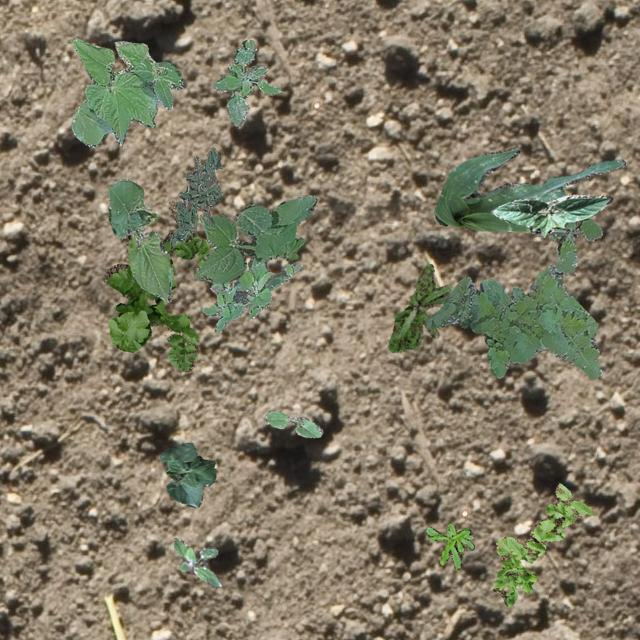crop: (432, 146, 624, 235), (68, 36, 182, 146), (108, 178, 172, 300), (489, 194, 612, 236), (158, 442, 214, 506), (264, 411, 322, 436)
weed: (424, 250, 602, 378), (102, 200, 208, 370), (492, 482, 592, 606), (194, 194, 316, 282), (202, 254, 302, 332), (212, 38, 280, 126), (386, 262, 450, 352), (170, 146, 222, 245), (172, 538, 220, 586), (550, 218, 600, 262), (426, 522, 472, 568)
